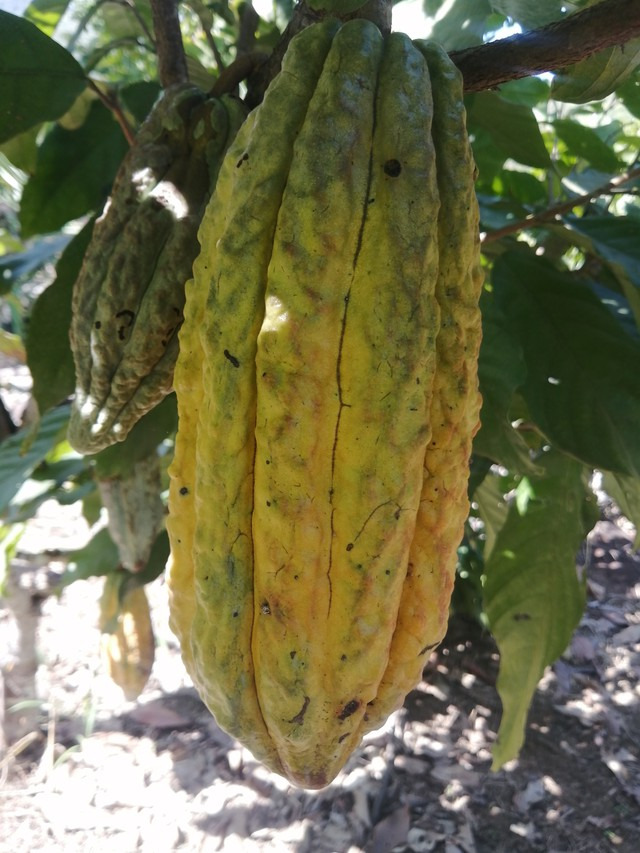Health: (150, 6, 508, 800)
